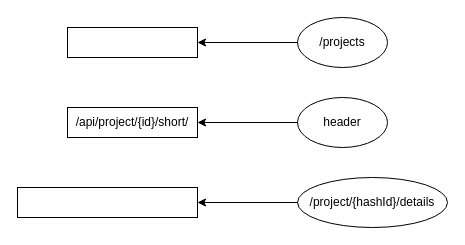
This 465x245 diagram has some shape labels left out. Here are the shapes that lost their labels. From the top down, the box of each, then its label:
(66, 26, 198, 58): /api/project/short
(16, 186, 198, 218): /api/project/details-pages/intro
